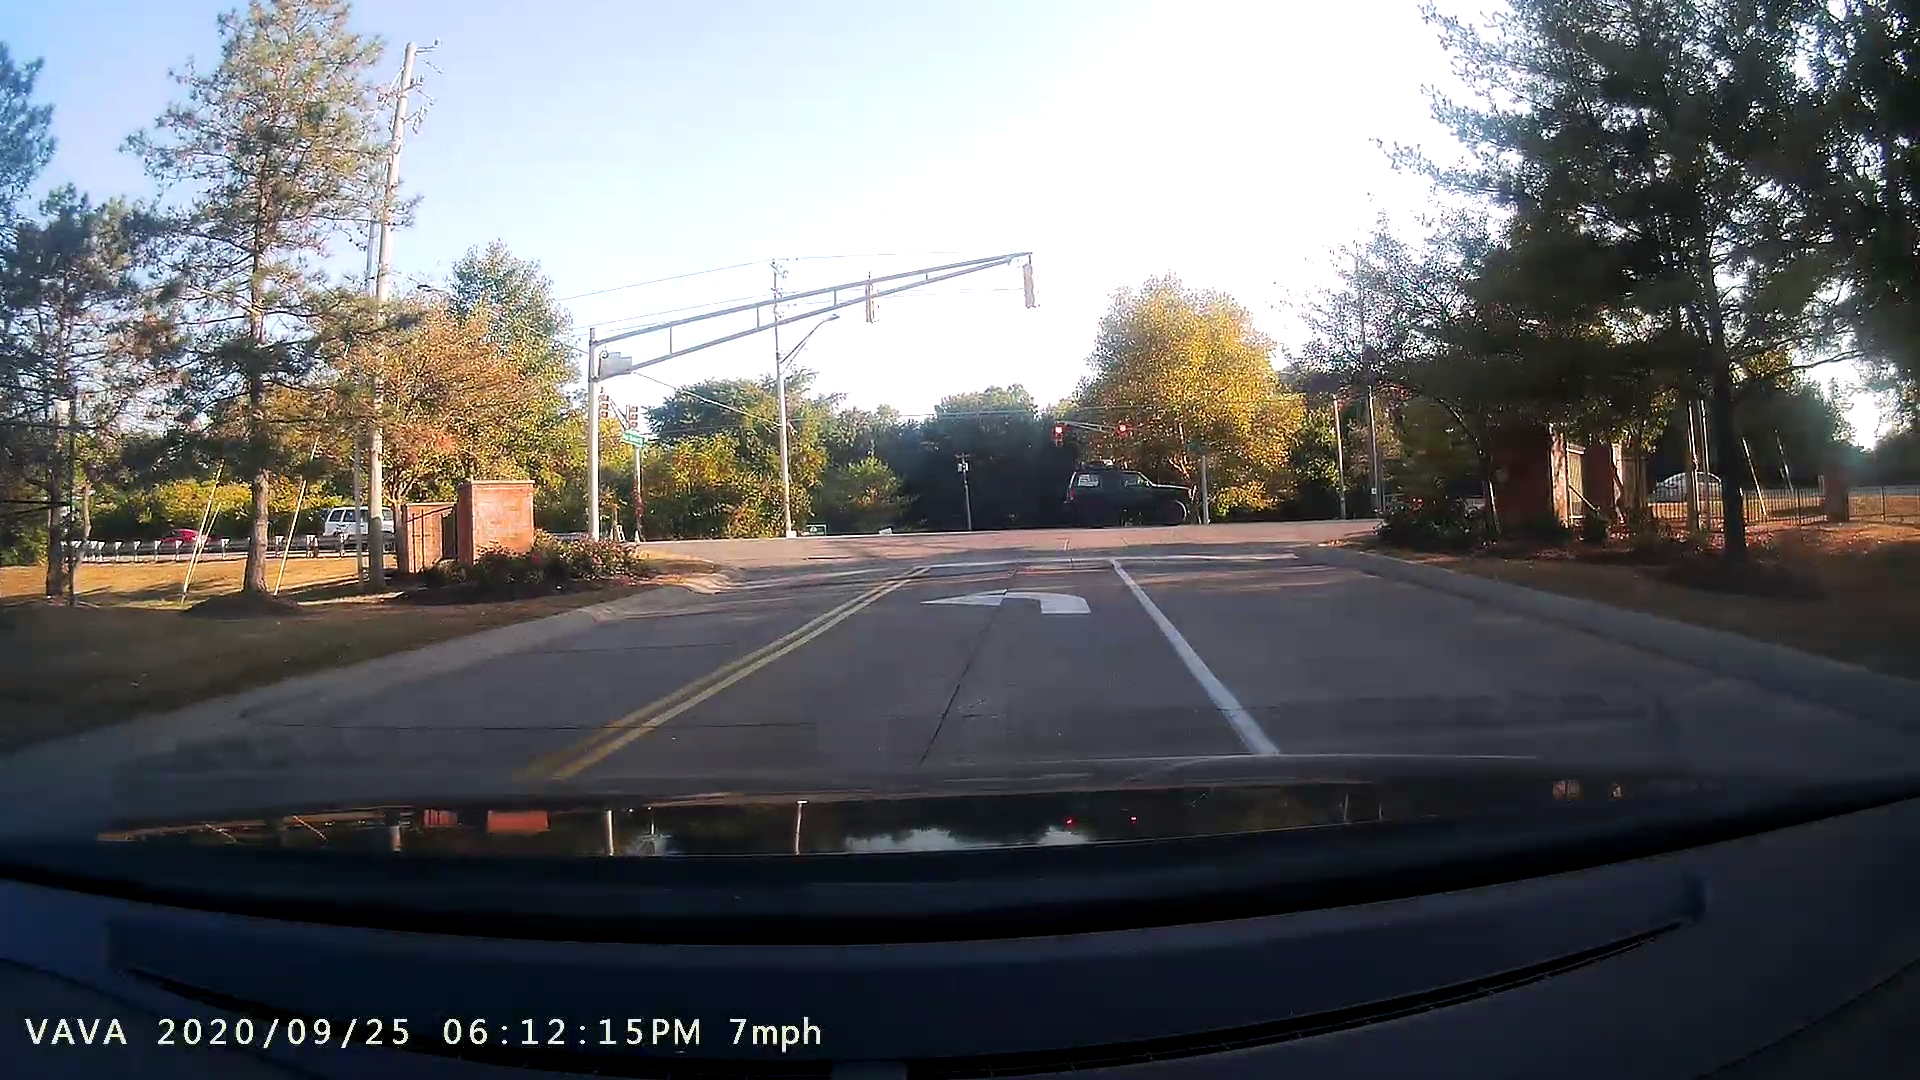left_turn: (910, 578, 1097, 626)
